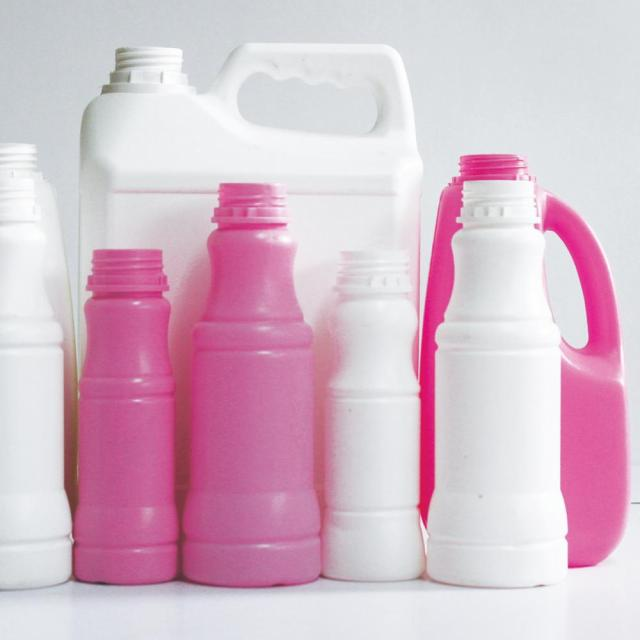plastic_bottle: (74, 38, 428, 281), (440, 174, 580, 603), (191, 163, 324, 591), (64, 241, 183, 581), (1, 141, 78, 627), (322, 238, 427, 584)
